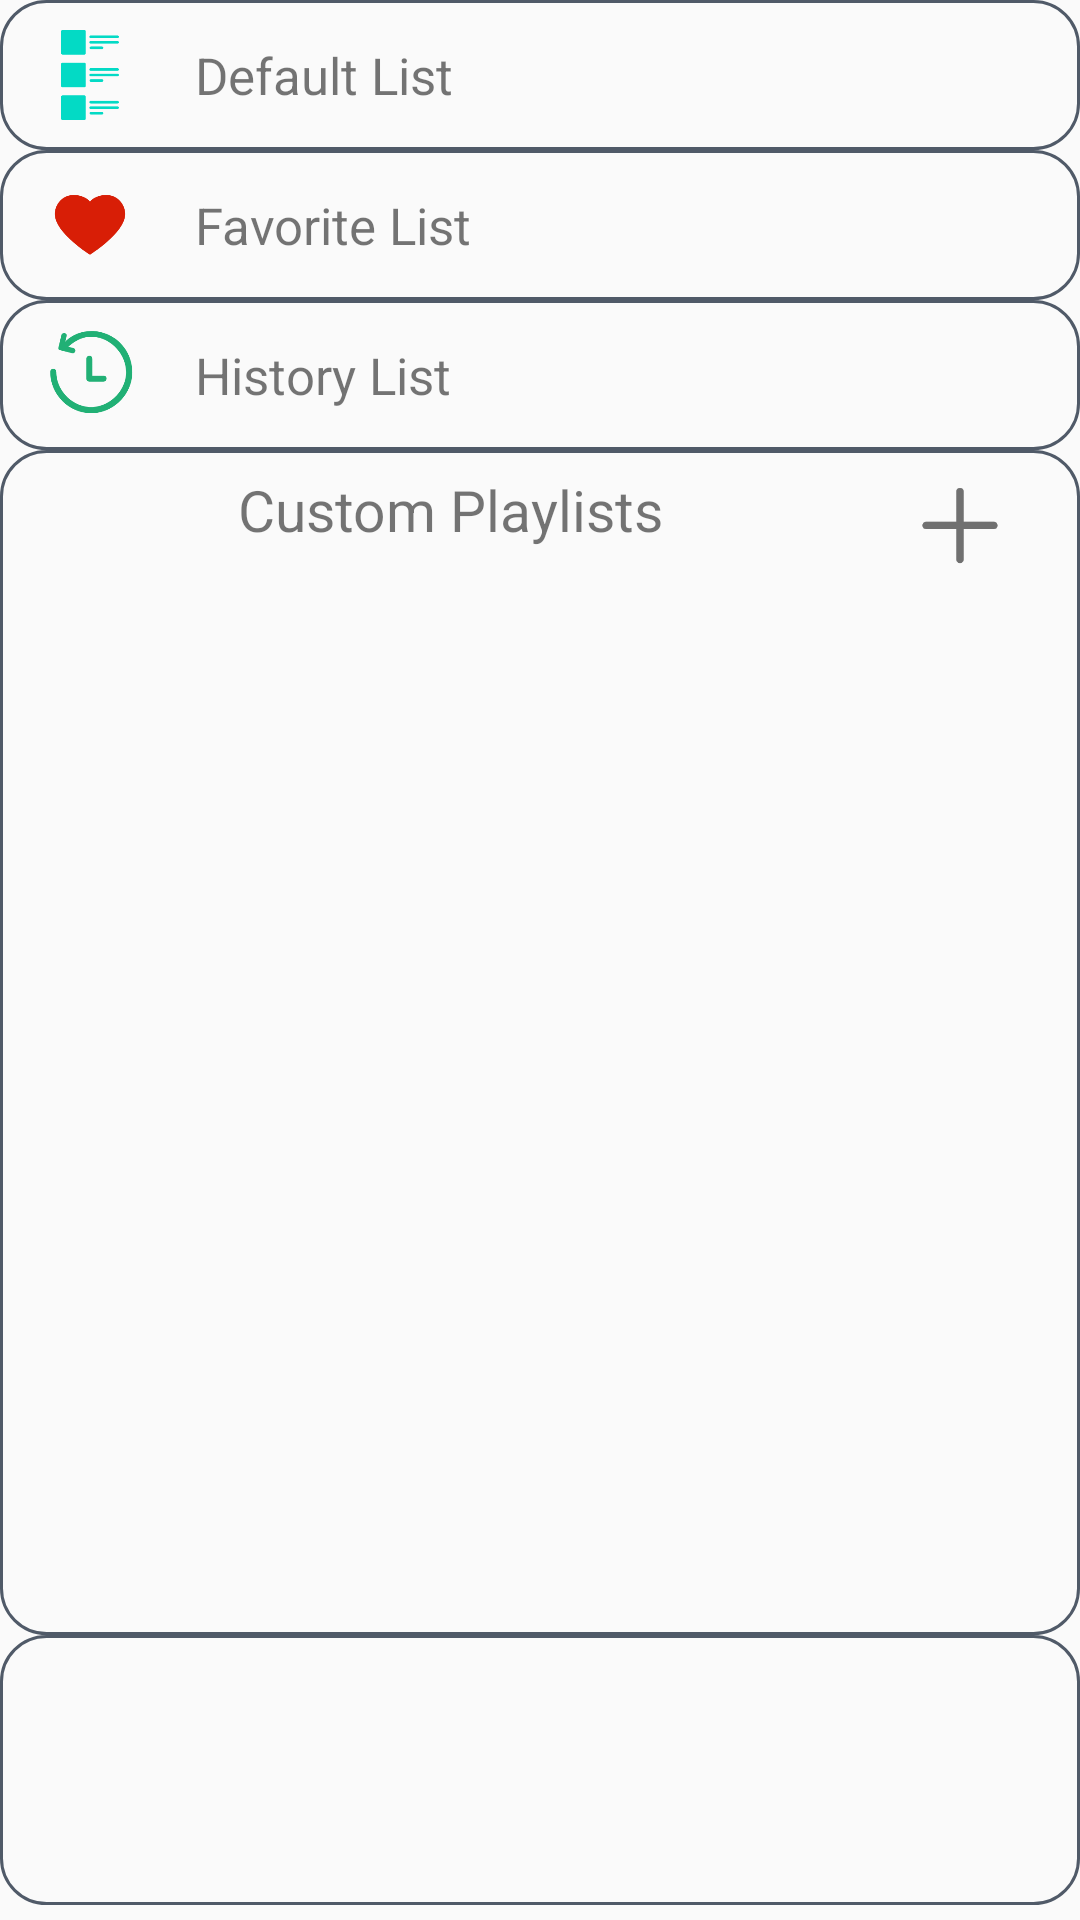

Screen size 1080x1920. Icon name, then its box in pixels as (x1, y1, x2, y2):
list like choose: (55, 195, 125, 255)
list press: (61, 30, 119, 120)
recently: (50, 331, 132, 413)
